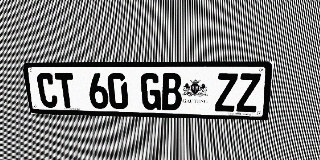0: (107, 73, 128, 109)
6: (87, 73, 109, 109)
B: (161, 73, 182, 111)
C: (36, 73, 59, 108)
G: (140, 73, 161, 110)
T: (54, 73, 77, 108)
Z: (236, 73, 261, 112), (215, 73, 238, 112)
